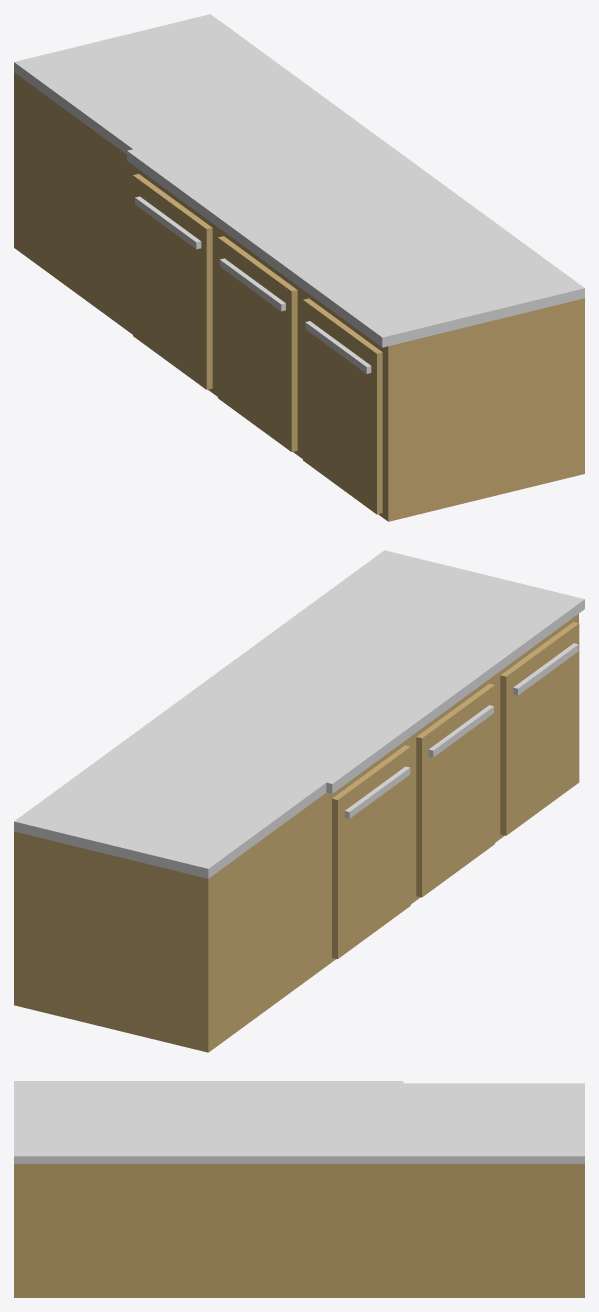
The model's file is Kitchen table 3.fbx.
3 views of the same model, one above another, from view 1: azimuth 30°, elevation 25°; view 2: azimuth 150°, elevation 25°; view 3: azimuth 270°, elevation 25° (orthographic). The views are drawn at different scales.
Visible parts, largest first — view 1: Cube.001; view 2: Cube.001; view 3: Cube.001.
Part boxes in pixels (x1=…): Cube.001: x1=14, y1=14, x2=584, y2=521; Cube.001: x1=14, y1=550, x2=584, y2=1052; Cube.001: x1=14, y1=1081, x2=584, y2=1297.
Size of the model in its own units: 211 by 181 by 660.
